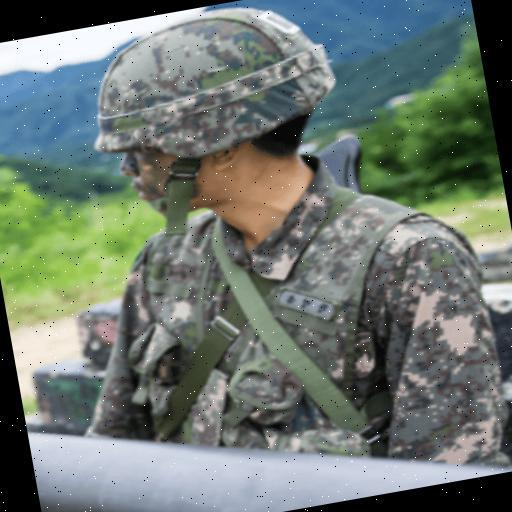korea army: (43, 139, 510, 512), (75, 0, 352, 171)
